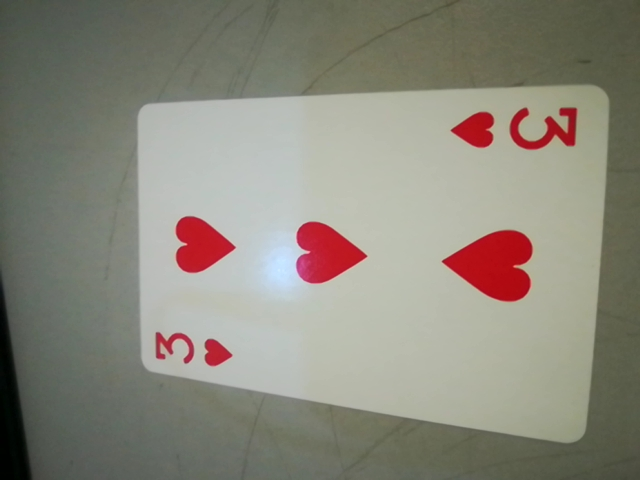hx 3: (465, 97, 593, 158)
